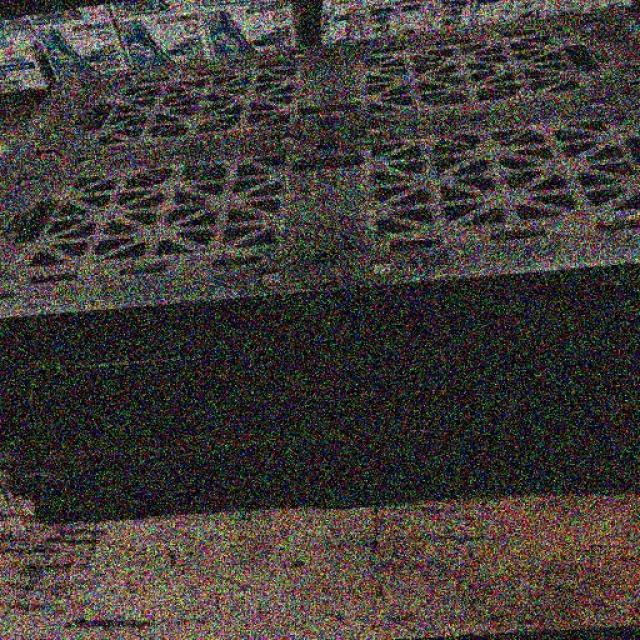igps: (0, 0, 639, 391)
